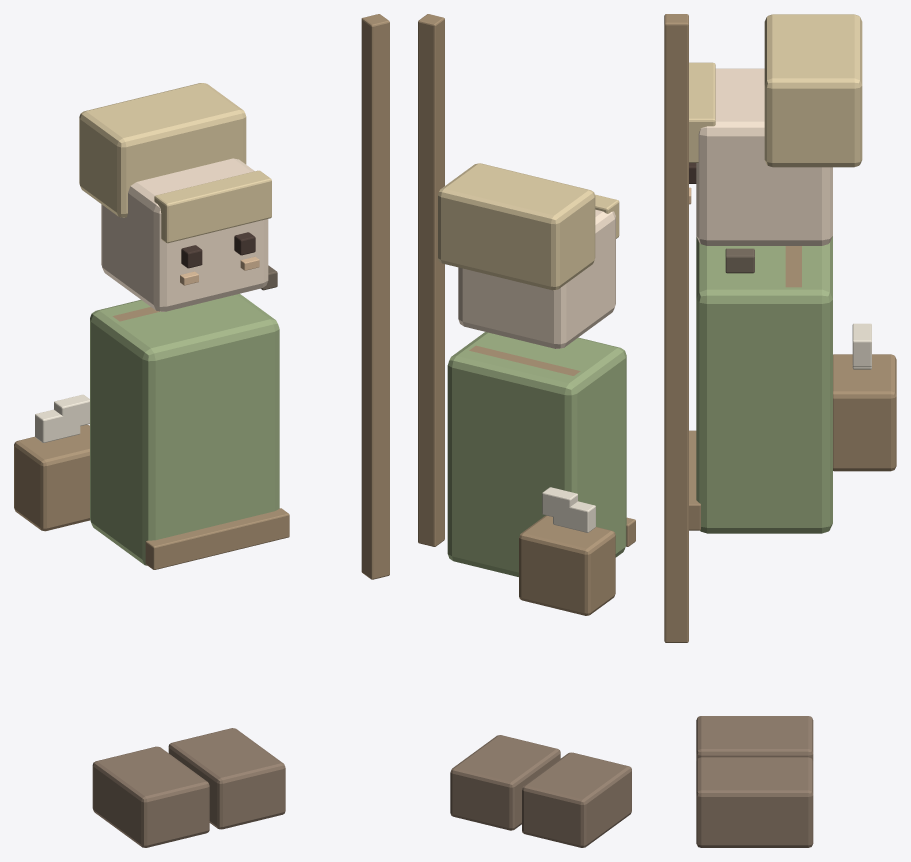
Rendered from npc_cricket.glb.
3 views of the same model, side by side, from view 1: azimuth 30°, elevation 25°; view 2: azimuth 150°, elevation 25°; view 3: azimuth 270°, elevation 25° (orthographic). The views are drawn at different scales.
Visible parts, largest first — view 1: Body_torso, Arm_R_staff, Head_hair, Head_skull, Leg_L_boot, Leg_R_boot, Body_satchel, Head_bangs, Body_belt, Body_letter_a, Body_letter_b; view 2: Body_torso, Head_hair, Arm_R_staff, Head_skull, Leg_L_boot, Body_satchel, Leg_R_boot, Body_letter_a, Body_letter_b, Body_strap, Head_bangs; view 3: Body_torso, Head_skull, Arm_R_staff, Head_hair, Leg_R_boot, Body_satchel, Leg_L_boot, Head_bangs, Body_belt, Body_letter_b, Head_cricket, Body_strap.
Part boxes in pixels (bbox=[...]): Body_torso: bbox=[90, 293, 279, 565]; Arm_R_staff: bbox=[361, 14, 389, 579]; Head_hair: bbox=[79, 83, 246, 217]; Head_skull: bbox=[101, 158, 268, 311]; Leg_L_boot: bbox=[92, 746, 209, 847]; Leg_R_boot: bbox=[168, 728, 285, 829]; Body_satchel: bbox=[14, 425, 89, 531]; Head_bangs: bbox=[154, 170, 271, 243]; Body_belt: bbox=[145, 508, 289, 569]; Body_letter_a: bbox=[35, 409, 80, 442]; Body_letter_b: bbox=[54, 394, 89, 426]; Body_torso: bbox=[447, 332, 626, 576]; Head_hair: bbox=[438, 163, 595, 290]; Arm_R_staff: bbox=[418, 14, 444, 546]; Head_skull: bbox=[458, 209, 615, 348]; Leg_L_boot: bbox=[522, 752, 631, 847]; Body_satchel: bbox=[519, 515, 615, 615]; Leg_R_boot: bbox=[450, 735, 560, 830]; Body_letter_a: bbox=[553, 501, 595, 532]; Body_letter_b: bbox=[542, 487, 577, 519]; Body_strap: bbox=[469, 345, 580, 375]; Head_bangs: bbox=[595, 194, 619, 238]; Body_torso: bbox=[696, 236, 832, 533]; Head_skull: bbox=[696, 68, 832, 245]; Arm_R_staff: bbox=[664, 14, 688, 642]; Head_hair: bbox=[764, 14, 862, 167]; Leg_R_boot: bbox=[696, 757, 813, 847]; Body_satchel: bbox=[833, 354, 896, 471]; Leg_L_boot: bbox=[696, 716, 813, 760]; Head_bangs: bbox=[689, 62, 715, 162]; Body_belt: bbox=[689, 430, 700, 530]; Body_letter_b: bbox=[852, 325, 871, 366]; Head_cricket: bbox=[725, 248, 754, 273]; Body_strap: bbox=[785, 246, 801, 287].
Bounding box in the file's own units: 0.725 × 1.97 × 0.475.
